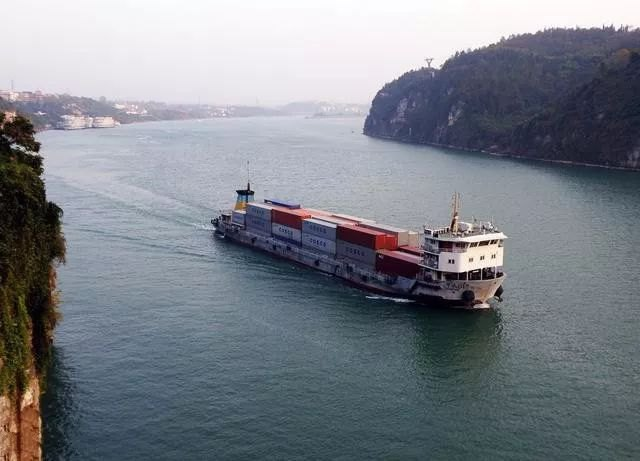boat: (208, 170, 512, 323)
